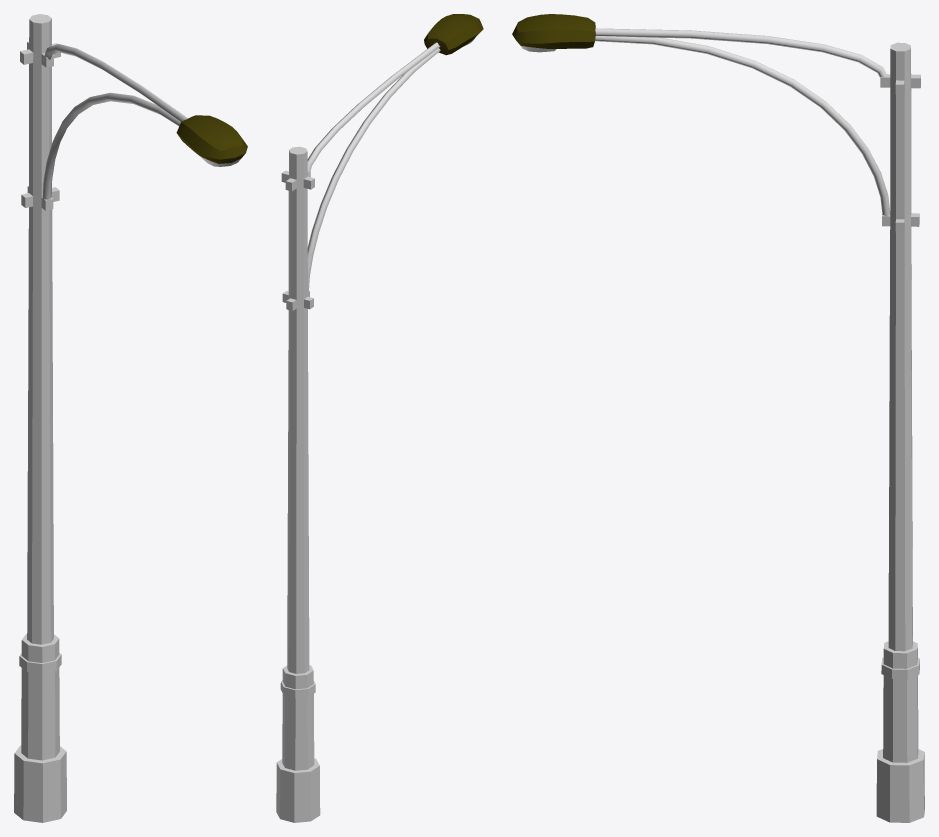
Rendered from Street Lamb.fbx.
3 views of the same model, side by side, from view 1: azimuth 30°, elevation 25°; view 2: azimuth 150°, elevation 25°; view 3: azimuth 270°, elevation 25° (orthographic). The views are drawn at different scales.
Visible parts, largest first — view 1: Cylinder, Cube, BézierCurve, BézierCurve.001; view 2: Cylinder, BézierCurve, Cube, BézierCurve.001; view 3: Cylinder, BézierCurve, Cube, BézierCurve.001.
Boxes of the visible parts, <box> form: Cylinder: <box>14,14,66,822</box>; Cube: <box>176,115,247,166</box>; BézierCurve: <box>42,92,180,199</box>; BézierCurve.001: <box>42,44,187,121</box>; Cylinder: <box>276,146,320,822</box>; BézierCurve: <box>307,48,440,292</box>; Cube: <box>424,14,483,55</box>; BézierCurve.001: <box>307,42,440,176</box>; Cylinder: <box>876,42,924,822</box>; BézierCurve: <box>595,36,890,216</box>; Cube: <box>512,14,595,52</box>; BézierCurve.001: <box>595,28,887,83</box>.
Size of the model in its own units: 72.65 by 1084 by 513.
